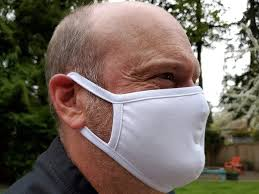cloth_mask: (47, 72, 208, 194)
